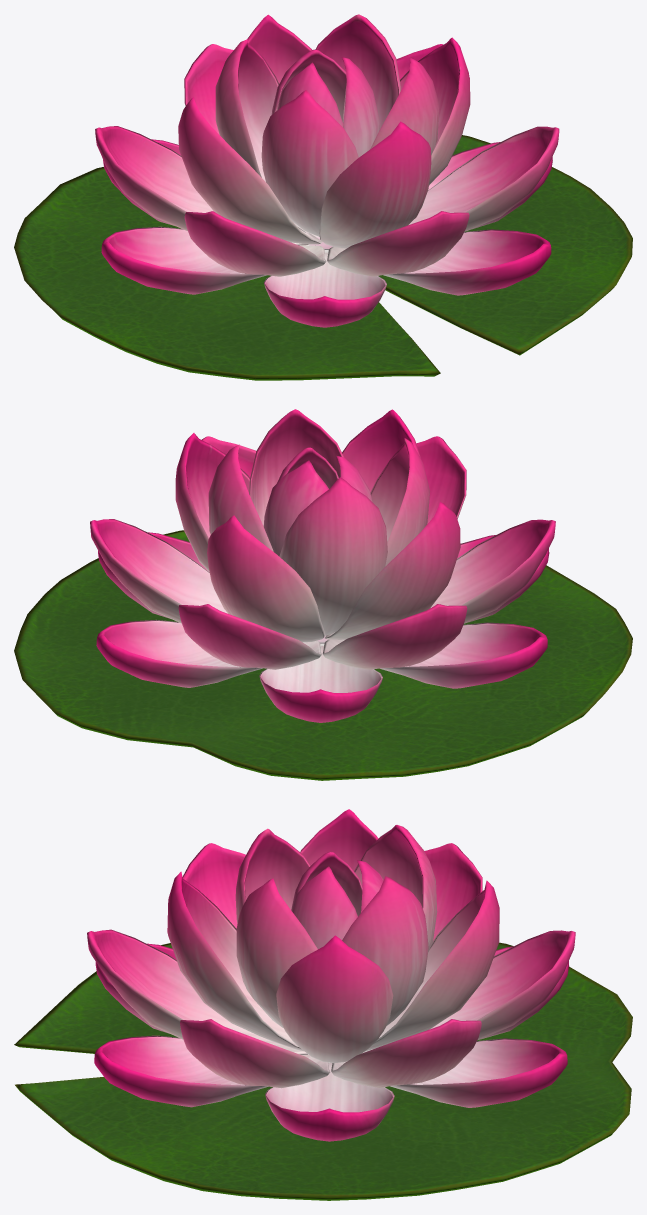
The model's file is lotus_flower_with_lillypad.glb.
3 views of the same model, one above another, from view 1: azimuth 30°, elevation 25°; view 2: azimuth 150°, elevation 25°; view 3: azimuth 270°, elevation 25° (orthographic). The views are drawn at different scales.
Parts seen in each view (by area): view 1: Lillypad2; view 2: Lillypad2; view 3: Lillypad2.
Boxes of the visible parts, x1,y1,x2,y2 form: Lillypad2: [14, 14, 632, 380]; Lillypad2: [14, 409, 632, 780]; Lillypad2: [14, 809, 632, 1200].
Bounding box in the file's own units: 0.581 × 0.2215 × 0.5599.
2 materials, 2 textured.
